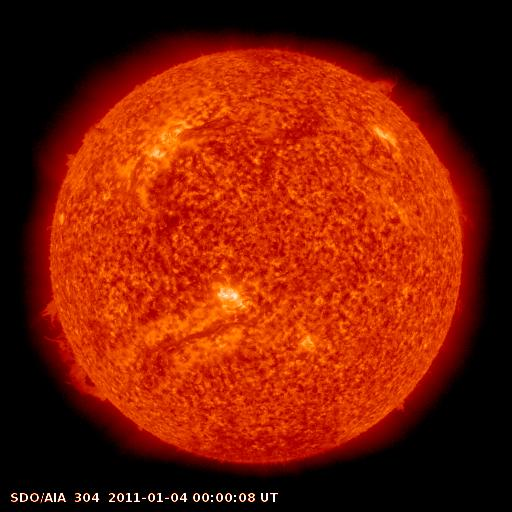prominence: (23, 290, 112, 412), (353, 61, 413, 113), (375, 384, 426, 428), (47, 140, 92, 178)
